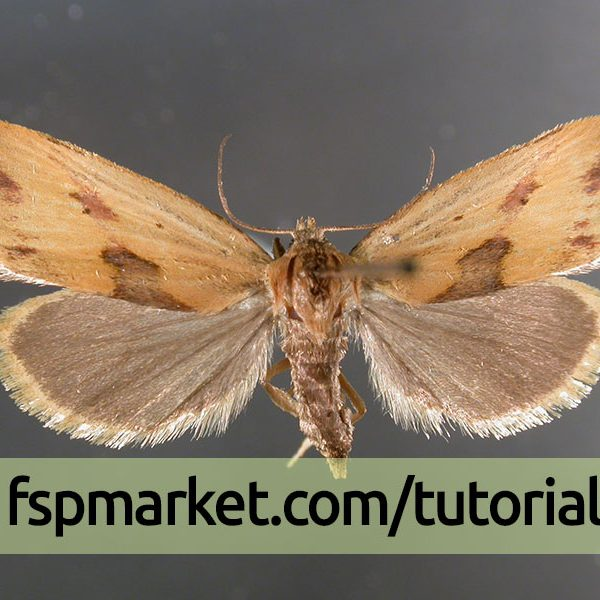Noctuidae: (3, 117, 600, 472)
